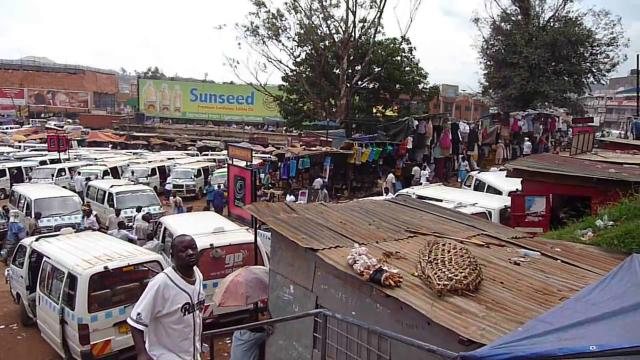van: (5, 228, 151, 357), (148, 210, 266, 325), (7, 182, 85, 239), (84, 179, 165, 233), (123, 158, 182, 195), (167, 159, 220, 199), (73, 164, 124, 193), (33, 158, 75, 193), (0, 157, 38, 195), (199, 152, 230, 169), (0, 125, 21, 134)
